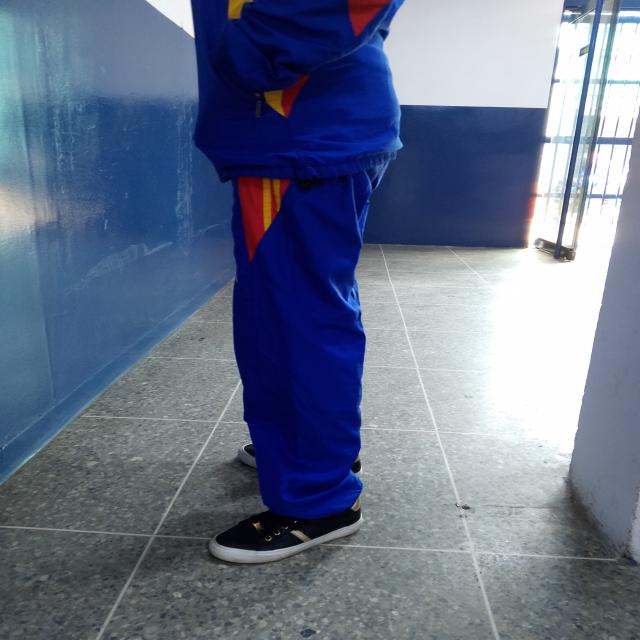chaqueta_unefa: (189, 0, 408, 179)
